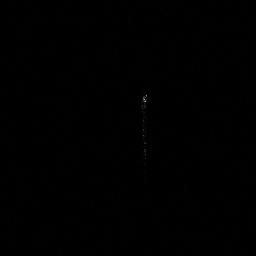ship: (141, 90, 150, 165)
